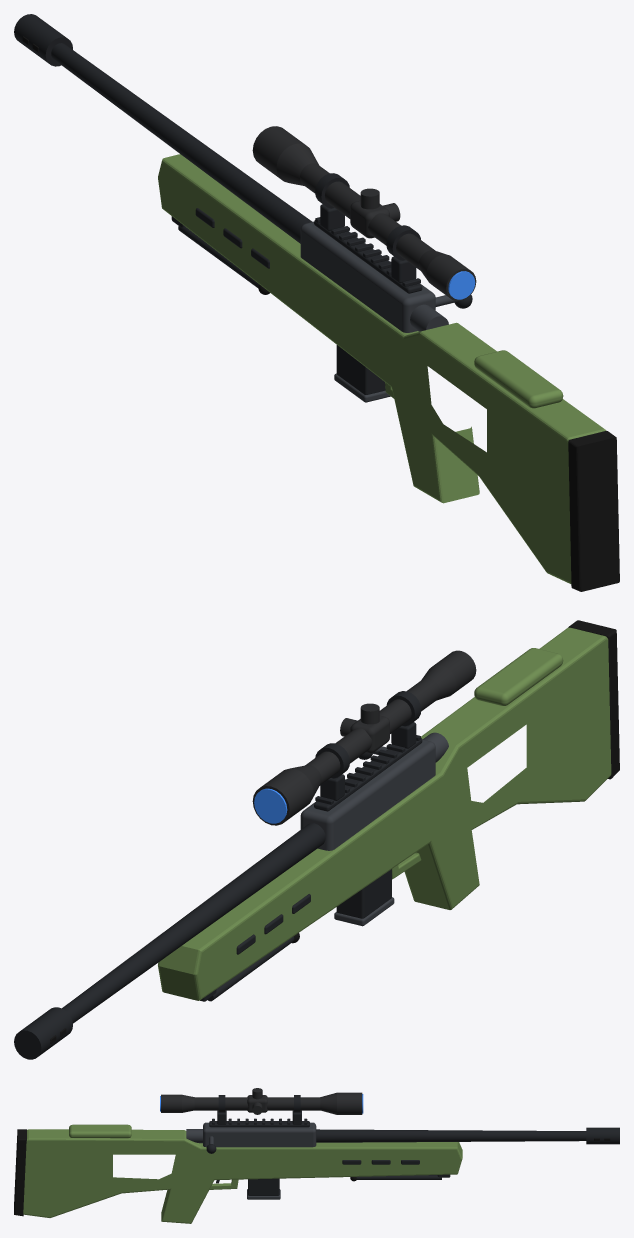
The model's file is awp.glb.
3 renders of one model, top to bottom at view 1: azimuth 30°, elevation 25°; view 2: azimuth 150°, elevation 25°; view 3: azimuth 270°, elevation 25°, orthographic. The views are drawn at different scales.
Visible parts, largest first — view 1: stock, butt_pad, barrel, receiver, cheek_riser, scope_tube, muzzle_brake, scope_objective, magazine, scope_objective_cone, scope_eyepiece, rail_base; view 2: stock, barrel, receiver, cheek_riser, scope_tube, muzzle_brake, butt_pad, scope_objective, magazine, scope_lens_front, scope_eyepiece, rail_base (+3 smaller); view 3: stock, barrel, receiver, scope_tube, butt_pad, cheek_riser, scope_objective, muzzle_brake, rail_base, magazine, scope_eyepiece, bipod_leg (+5 smaller).
Part boxes in pixels (left/top/right/bottom): stock: left=158, top=154, right=605, bottom=583; butt_pad: left=568, top=430, right=619, bottom=591; barrel: left=51, top=43, right=312, bottom=243; receiver: left=300, top=221, right=435, bottom=332; cheek_riser: left=474, top=350, right=563, bottom=408; scope_tube: left=300, top=163, right=435, bottom=270; muzzle_brake: left=14, top=14, right=72, bottom=66; scope_objective: left=252, top=126, right=304, bottom=180; magazine: left=336, top=345, right=385, bottom=394; scope_objective_cone: left=276, top=143, right=318, bottom=185; scope_eyepiece: left=426, top=254, right=476, bottom=301; rail_base: left=314, top=220, right=422, bottom=293; stock: left=158, top=627, right=611, bottom=1000; barrel: left=62, top=823, right=325, bottom=1023; receiver: left=300, top=739, right=435, bottom=850; cheek_riser: left=474, top=648, right=563, bottom=705; scope_tube: left=305, top=678, right=440, bottom=785; muzzle_brake: left=14, top=1007, right=72, bottom=1059; butt_pad: left=568, top=620, right=619, bottom=779; scope_objective: left=252, top=768, right=313, bottom=825; magazine: left=336, top=869, right=391, bottom=918; scope_lens_front: left=254, top=788, right=287, bottom=823; scope_eyepiece: left=433, top=650, right=476, bottom=694; rail_base: left=314, top=738, right=422, bottom=811; stock: left=23, top=1129, right=462, bottom=1223; barrel: left=316, top=1129, right=586, bottom=1142; receiver: left=203, top=1122, right=316, bottom=1147; scope_tube: left=194, top=1097, right=320, bottom=1110; butt_pad: left=14, top=1129, right=26, bottom=1216; cheek_riser: left=69, top=1124, right=131, bottom=1138; scope_objective: left=337, top=1092, right=362, bottom=1114; muzzle_brake: left=586, top=1127, right=619, bottom=1144; rail_base: left=209, top=1121, right=309, bottom=1127; magazine: left=248, top=1178, right=279, bottom=1195; scope_eyepiece: left=161, top=1094, right=181, bottom=1112; bipod_leg: left=356, top=1175, right=441, bottom=1179.
Size of the model in its own units: 0.116 by 0.3402 by 1.45.
